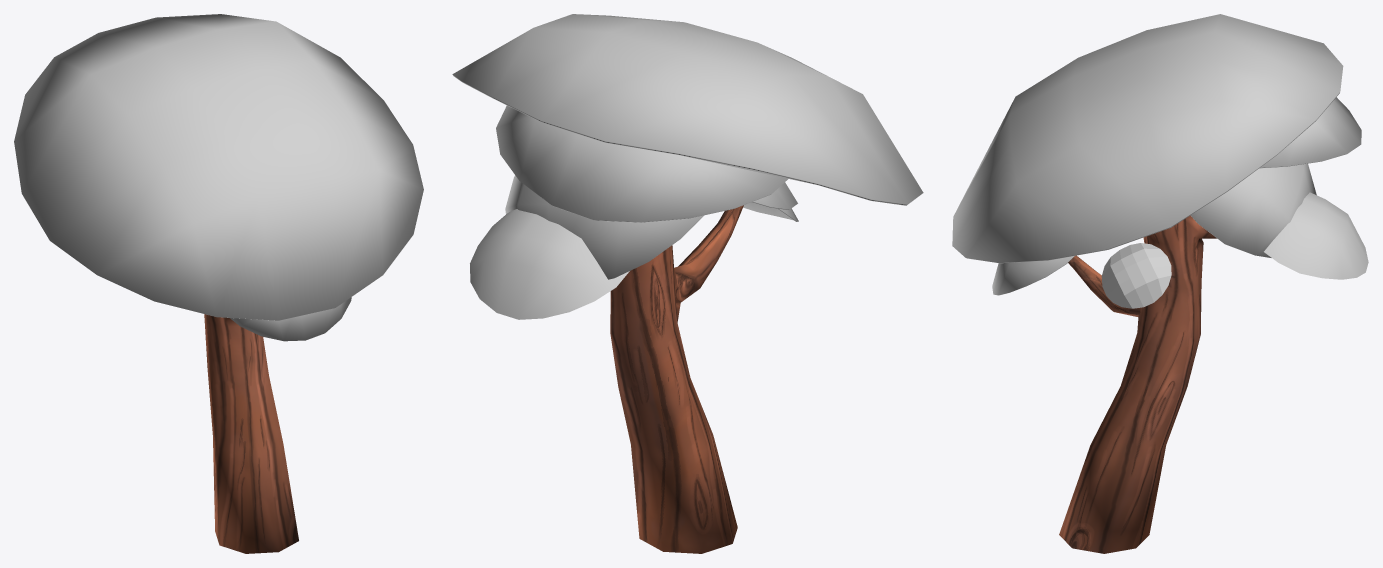
The model's file is Rework Tree 3.fbx.
The picture shows the model from 3 angles, left to right: view 1: azimuth 30°, elevation 25°; view 2: azimuth 150°, elevation 25°; view 3: azimuth 270°, elevation 25°; orthographic projection. The views are drawn at different scales.
Parts seen in each view (by area): view 1: Object001, Rework Body 3, Object005; view 2: Object001, Rework Body 3, Object002, Object004, Object003, Object007; view 3: Object001, Rework Body 3, Object003, Object004, Object008, Object002, Object005.
Boxes of the visible parts, x1=… form: Object001: x1=14, y1=14, x2=423, y2=320; Rework Body 3: x1=204, y1=314, x2=298, y2=553; Object005: x1=230, y1=297, x2=351, y2=341; Object001: x1=452, y1=14, x2=923, y2=205; Rework Body 3: x1=610, y1=205, x2=743, y2=553; Object002: x1=496, y1=105, x2=788, y2=222; Object004: x1=470, y1=209, x2=629, y2=319; Object003: x1=505, y1=175, x2=703, y2=279; Object007: x1=752, y1=182, x2=797, y2=210; Object001: x1=952, y1=14, x2=1343, y2=263; Rework Body 3: x1=1059, y1=215, x2=1216, y2=553; Object003: x1=1190, y1=163, x2=1316, y2=257; Object004: x1=1264, y1=192, x2=1368, y2=279; Object008: x1=1101, y1=243, x2=1171, y2=308; Object002: x1=1259, y1=97, x2=1361, y2=168; Object005: x1=992, y1=256, x2=1074, y2=295.
Size of the model in its own units: 239 by 298 by 233.
